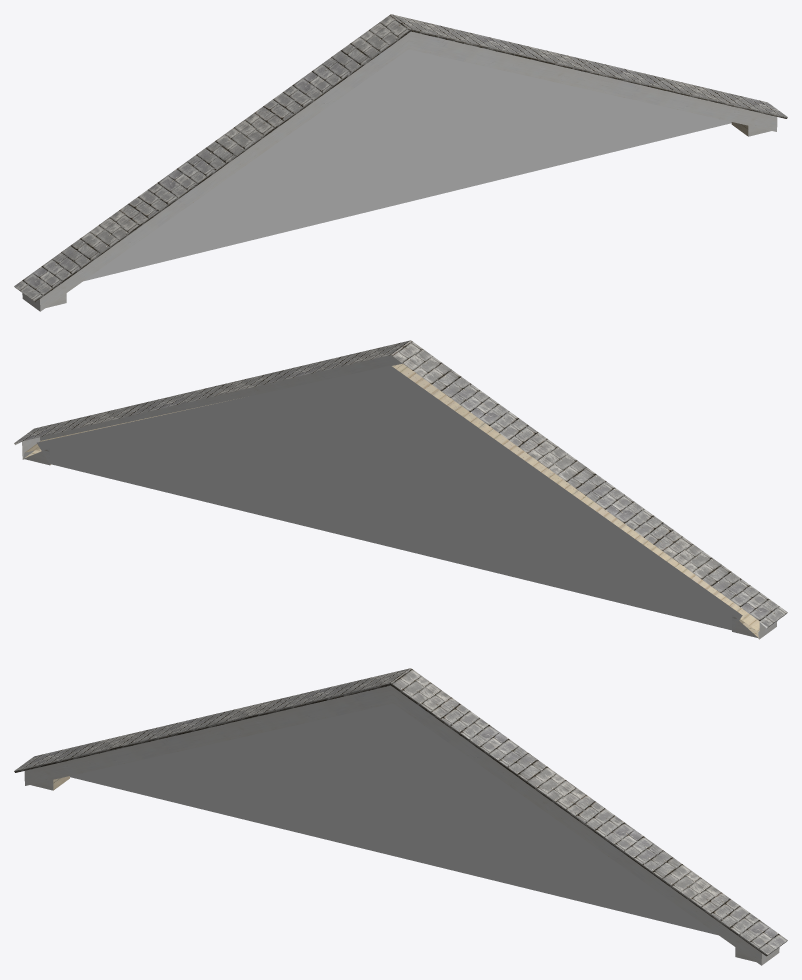
File: RoofLow_End_8x_COL.FBX
The picture shows the model from 3 angles, top to bottom: view 1: azimuth 30°, elevation 25°; view 2: azimuth 150°, elevation 25°; view 3: azimuth 330°, elevation 25°; orthographic projection.
Visible parts, largest first — view 1: RoofLow_End_8x_COL; view 2: RoofLow_End_8x_COL; view 3: RoofLow_End_8x_COL.
Part boxes in pixels (x1,y1,x2,y2): RoofLow_End_8x_COL: (14, 14, 787, 311); RoofLow_End_8x_COL: (14, 340, 787, 639); RoofLow_End_8x_COL: (14, 668, 787, 965).
Bounding box in the file's own units: 884 × 218 × 40.91.
